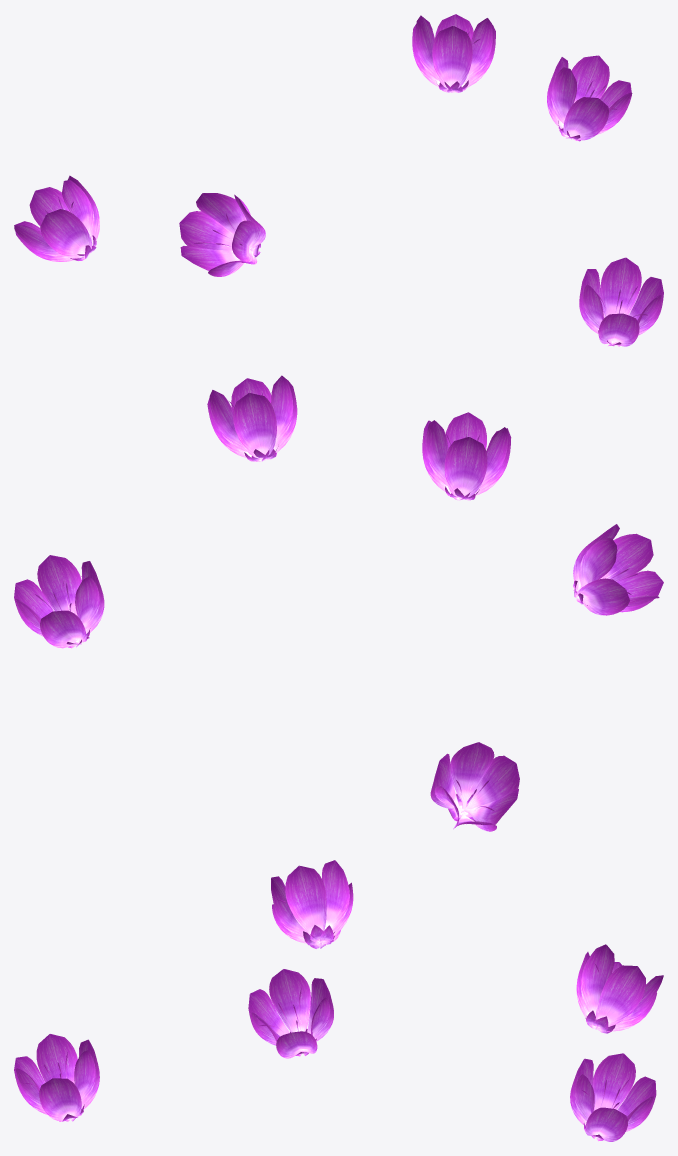
The model's file is flowers_short_flowers.glb.
3 renders of one model, top to bottom at view 1: azimuth 30°, elevation 25°; view 2: azimuth 150°, elevation 25°; view 3: azimuth 270°, elevation 25°, orthographic. The views are drawn at different scales.
Visible parts, largest first — view 1: flowers; view 2: flowers; view 3: flowers.
Part boxes in pixels (bbox=[...]): flowers: bbox=[14, 14, 663, 346]; flowers: bbox=[14, 375, 663, 831]; flowers: bbox=[14, 860, 663, 1141].
Size of the model in its own units: 1.41 by 0.6407 by 1.66.
Materials: 1 (1 with a texture image).
